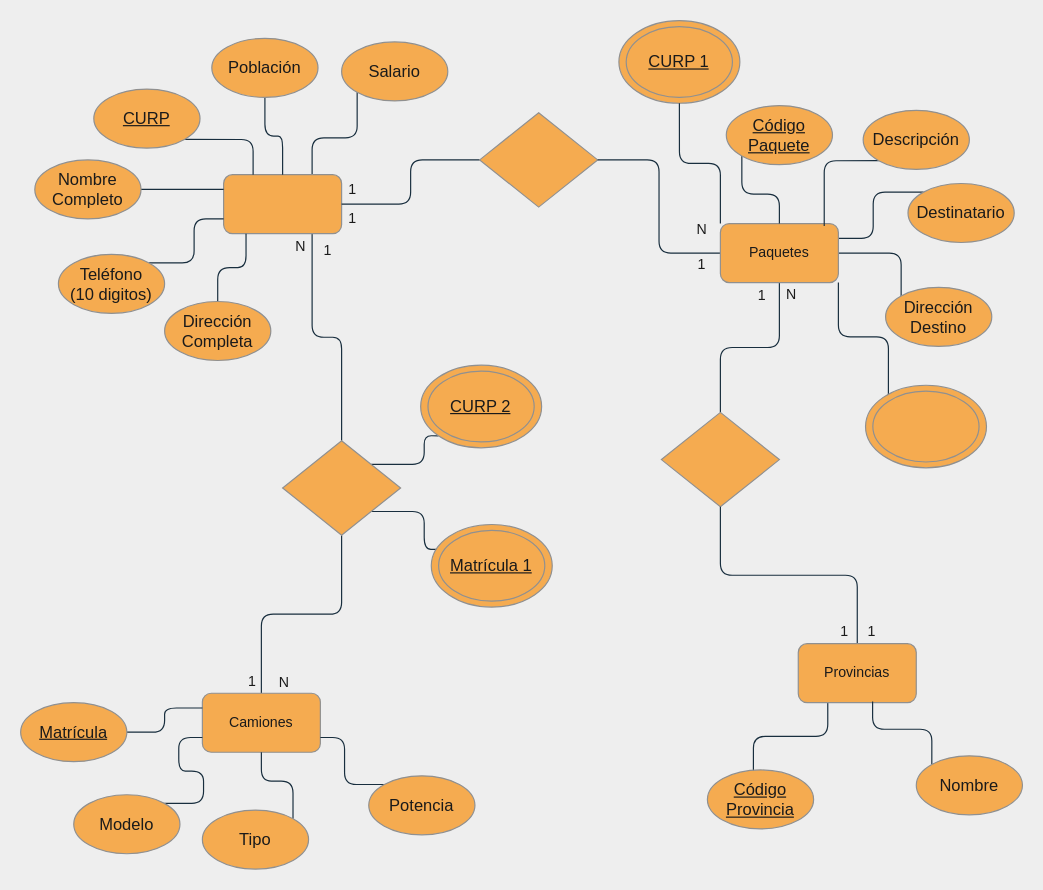
This 1043x890 diagram has some shape labels left out. Each missing label, with the centre of its shape:
"Camioneros" goes at (x=282, y=203).
"Conducir N:M" goes at (x=341, y=487).
"Código Provincia 1" goes at (x=925, y=426).
"Llegar 1:N" goes at (x=719, y=459).
"Repartir 1:N" goes at (x=538, y=159).
